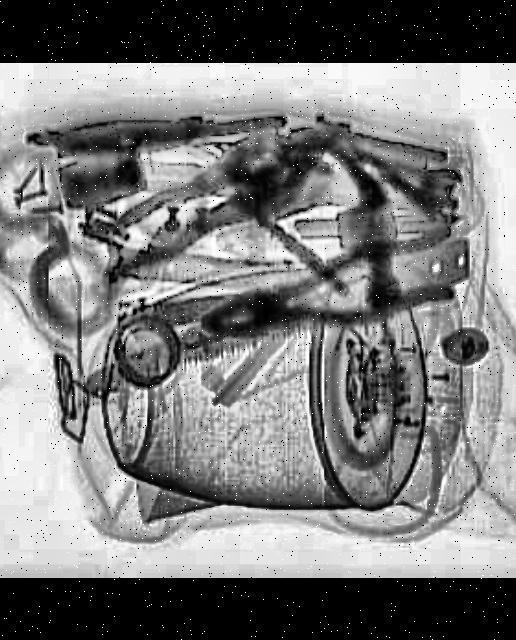Pliers: (192, 224, 476, 364)
